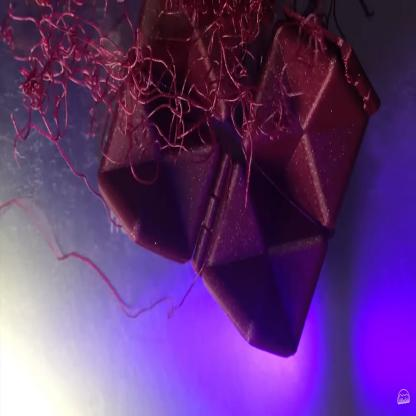fail: (11, 2, 277, 159)
